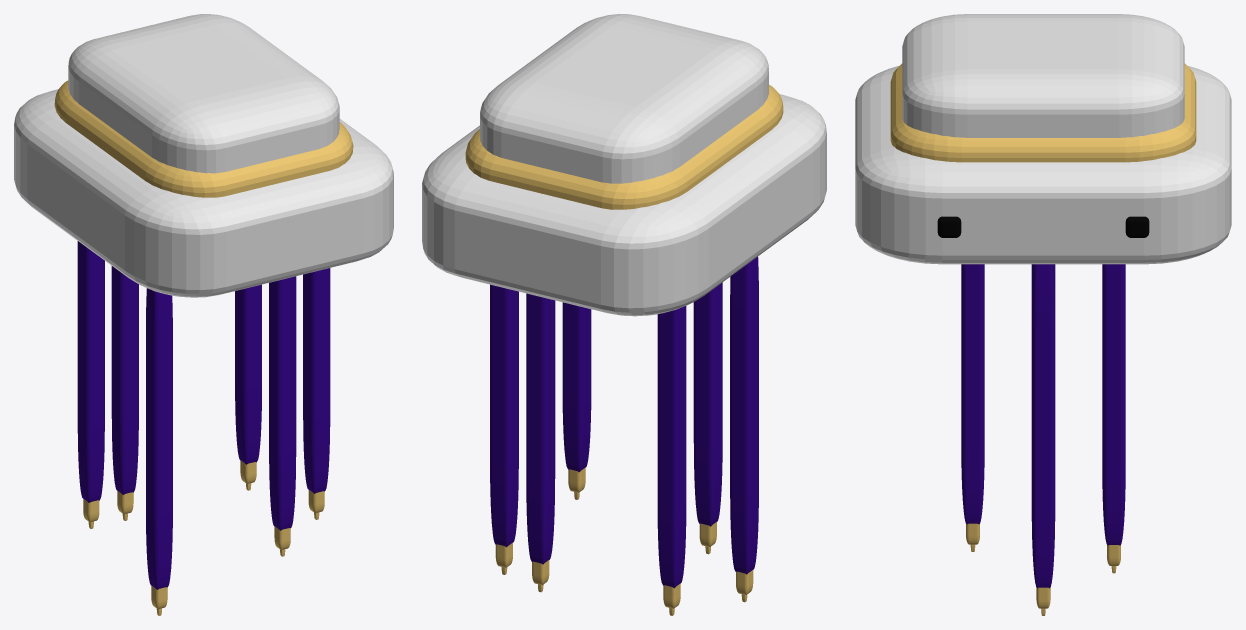
The model's file is Electrish.glb.
The picture shows the model from 3 angles, left to right: view 1: azimuth 30°, elevation 25°; view 2: azimuth 150°, elevation 25°; view 3: azimuth 270°, elevation 25°; orthographic projection. The views are drawn at different scales.
Parts seen in each view (by area): view 1: Electrish; view 2: Electrish; view 3: Electrish.
Part boxes in pixels (left/top/right/bottom): Electrish: left=14, top=14, right=393, bottom=615; Electrish: left=422, top=14, right=826, bottom=615; Electrish: left=855, top=14, right=1231, bottom=615.
Bounding box in the file's own units: 0.66 × 1.24 × 0.8.
